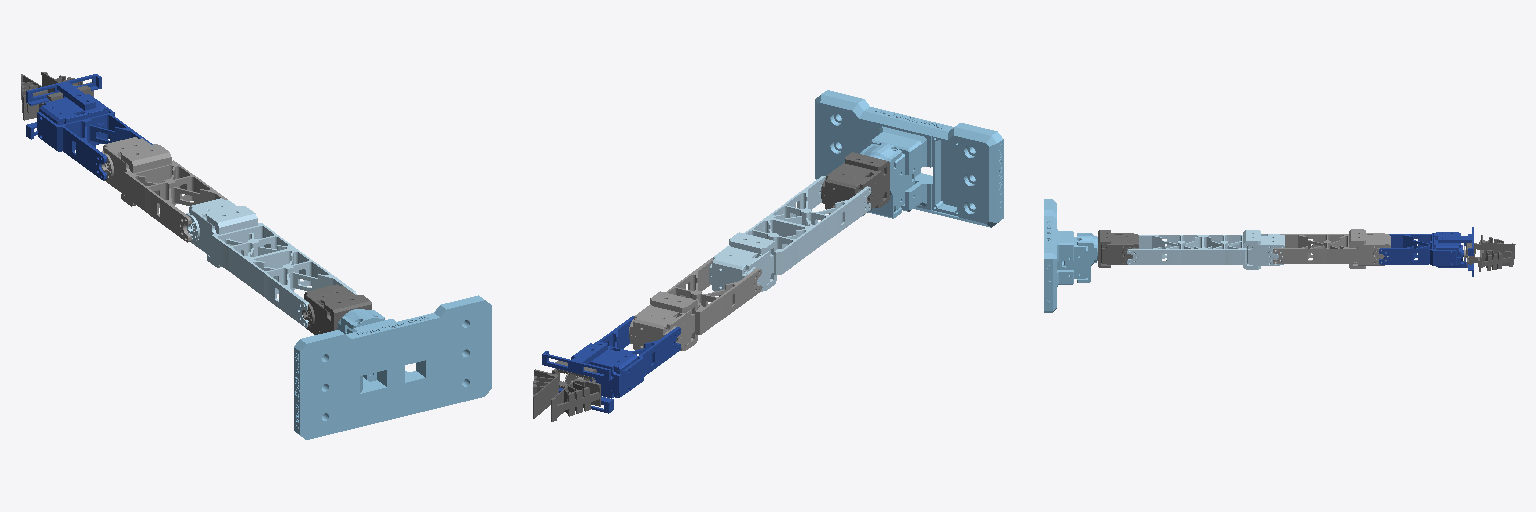
robot.urdf — C:\urdf_v3\my_manipulator:
<?xml version="1.0" ?>
<!-- Generated using onshape-to-robot -->
<!-- Onshape document_id: 29d2c07e16431e1b6bc67f98 / workspace_id: 2efbcbf417c8f235b23c5bfa -->
<robot name="C:\urdf_v3\my_manipulator">
  <!-- Link follower_01 -->
  <link name="follower_01">
    <inertial>
      <origin xyz="0 0 0" rpy="0 0 0"/>
      <mass value="1e-09"/>
      <inertia ixx="1e-09" ixy="0" ixz="0" iyy="1e-09" iyz="0" izz="1e-09"/>
    </inertial>
  </link>
  <!-- Link follower_02 -->
  <link name="follower_02">
    <inertial>
      <origin xyz="0 0 0" rpy="0 0 0"/>
      <mass value="1e-09"/>
      <inertia ixx="1e-09" ixy="0" ixz="0" iyy="1e-09" iyz="0" izz="1e-09"/>
    </inertial>
  </link>
  <!-- Link follower_03 -->
  <link name="follower_03">
    <inertial>
      <origin xyz="0 0 0" rpy="0 0 0"/>
      <mass value="1e-09"/>
      <inertia ixx="1e-09" ixy="0" ixz="0" iyy="1e-09" iyz="0" izz="1e-09"/>
    </inertial>
  </link>
  <!-- Link follower_04 -->
  <link name="follower_04">
    <inertial>
      <origin xyz="0 0 0" rpy="0 0 0"/>
      <mass value="1e-09"/>
      <inertia ixx="1e-09" ixy="0" ixz="0" iyy="1e-09" iyz="0" izz="1e-09"/>
    </inertial>
  </link>
  <!-- Link follower_05 -->
  <link name="follower_05">
    <inertial>
      <origin xyz="0 0 0" rpy="0 0 0"/>
      <mass value="1e-09"/>
      <inertia ixx="1e-09" ixy="0" ixz="0" iyy="1e-09" iyz="0" izz="1e-09"/>
    </inertial>
  </link>
  <!-- Link follower_06 -->
  <link name="follower_06">
    <inertial>
      <origin xyz="0 0 0" rpy="0 0 0"/>
      <mass value="1e-09"/>
      <inertia ixx="1e-09" ixy="0" ixz="0" iyy="1e-09" iyz="0" izz="1e-09"/>
    </inertial>
  </link>
  <!-- Link follower_06_follower_06 -->
  <link name="follower_06_follower_06">
    <inertial>
      <origin xyz="-0.0215944 0.0111261 0.0123933" rpy="0 0 0"/>
      <mass value="0.00310232"/>
      <inertia ixx="7.8201e-08" ixy="0" ixz="-0" iyy="7.8201e-08" iyz="-0" izz="9.5009e-08"/>
    </inertial>
    <!-- Part follower_06 -->
    <visual>
      <origin xyz="0 0 0" rpy="-0 -0 -0"/>
      <geometry>
        <mesh filename="package://assets\follower_06.stl"/>
      </geometry>
      <material name="follower_06_material">
        <color rgba="0.647059 0.647059 0.647059 1"/>
      </material>
    </visual>
    <collision>
      <origin xyz="0 0 0" rpy="-0 -0 -0"/>
      <geometry>
        <mesh filename="package://assets\follower_06.stl"/>
      </geometry>
    </collision>
  </link>
  <!-- Joint from follower_06 to follower_06_follower_06 -->
  <joint name="follower_06_follower_06_fixed" type="fixed">
    <origin xyz="0.0215944 0.0111261 0.00703672" rpy="3.14159 0 0"/>
    <parent link="follower_06"/>
    <child link="follower_06_follower_06"/>
    <axis xyz="0 0 1"/>
    <limit effort="10" velocity="10"/>
  </joint>
  <!-- Joint from follower_05 to follower_06 -->
  <joint name="joint_55" type="revolute">
    <origin xyz="0.101701 0.00636871 -0.00852485" rpy="1.5708 1.26378 -1.50826"/>
    <parent link="follower_05"/>
    <child link="follower_06"/>
    <axis xyz="0 0 1"/>
    <limit effort="10" velocity="10" lower="-1.89519" upper="4.38799"/>
  </joint>
  <!-- Link follower_07 -->
  <link name="follower_07">
    <inertial>
      <origin xyz="0 0 0" rpy="0 0 0"/>
      <mass value="1e-09"/>
      <inertia ixx="1e-09" ixy="0" ixz="0" iyy="1e-09" iyz="0" izz="1e-09"/>
    </inertial>
  </link>
  <!-- Link follower_07_follower_07 -->
  <link name="follower_07_follower_07">
    <inertial>
      <origin xyz="-0.0264328 0.0135631 0.0346837" rpy="0 0 0"/>
      <mass value="0.0146282"/>
      <inertia ixx="4.21079e-06" ixy="-4.28884e-07" ixz="6.50577e-07" iyy="4.93697e-06" iyz="7.33644e-07" izz="1.99287e-06"/>
    </inertial>
    <!-- Part follower_07 -->
    <visual>
      <origin xyz="0 0 0" rpy="-0 -0 0"/>
      <geometry>
        <mesh filename="package://assets\follower_07.stl"/>
      </geometry>
      <material name="follower_07_material">
        <color rgba="0.498039 0.498039 0.498039 1"/>
      </material>
    </visual>
    <collision>
      <origin xyz="0 0 0" rpy="-0 -0 0"/>
      <geometry>
        <mesh filename="package://assets\follower_07.stl"/>
      </geometry>
    </collision>
  </link>
  <!-- Joint from follower_07 to follower_07_follower_07 -->
  <joint name="follower_07_follower_07_fixed" type="fixed">
    <origin xyz="0.0227885 0.0140367 0.00975937" rpy="1.5708 -1.55279 -0"/>
    <parent link="follower_07"/>
    <child link="follower_07_follower_07"/>
    <axis xyz="0 0 1"/>
    <limit effort="10" velocity="10"/>
  </joint>
  <!-- Joint from follower_05 to follower_07 -->
  <joint name="joint_66" type="prismatic">
    <origin xyz="0.106136 0.017143 -0.00580006" rpy="-3.14159 0 -1.5708"/>
    <parent link="follower_05"/>
    <child link="follower_07"/>
    <axis xyz="0 0 1"/>
    <limit effort="10" velocity="10" lower="0.00797479" upper="0.00797479"/>
  </joint>
  <!-- Link follower_07_2 -->
  <link name="follower_07_2">
    <inertial>
      <origin xyz="0 0 0" rpy="0 0 0"/>
      <mass value="1e-09"/>
      <inertia ixx="1e-09" ixy="0" ixz="0" iyy="1e-09" iyz="0" izz="1e-09"/>
    </inertial>
  </link>
  <!-- Link follower_07_2_follower_07_2 -->
  <link name="follower_07_2_follower_07_2">
    <inertial>
      <origin xyz="-0.0264328 0.0135631 0.0346837" rpy="0 0 0"/>
      <mass value="0.0146282"/>
      <inertia ixx="4.21079e-06" ixy="-4.28884e-07" ixz="6.50577e-07" iyy="4.93697e-06" iyz="7.33644e-07" izz="1.99287e-06"/>
    </inertial>
    <!-- Part follower_07_2 -->
    <visual>
      <origin xyz="0 0 0" rpy="-0 -0 0"/>
      <geometry>
        <mesh filename="package://assets\follower_07.stl"/>
      </geometry>
      <material name="follower_07_2_material">
        <color rgba="0.498039 0.498039 0.498039 1"/>
      </material>
    </visual>
    <collision>
      <origin xyz="0 0 0" rpy="-0 -0 0"/>
      <geometry>
        <mesh filename="package://assets\follower_07.stl"/>
      </geometry>
    </collision>
  </link>
  <!-- Joint from follower_07_2 to follower_07_2_follower_07_2 -->
  <joint name="follower_07_2_follower_07_2_fixed" type="fixed">
    <origin xyz="0.0227885 0.0190367 0.0142643" rpy="1.5708 -1.55279 -0"/>
    <parent link="follower_07_2"/>
    <child link="follower_07_2_follower_07_2"/>
    <axis xyz="0 0 1"/>
    <limit effort="10" velocity="10"/>
  </joint>
  <!-- Joint from follower_05 to follower_07_2 -->
  <joint name="joint_77" type="prismatic">
    <origin xyz="0.112436 -0.00345557 -0.0235766" rpy="-0 -0 1.5708"/>
    <parent link="follower_05"/>
    <child link="follower_07_2"/>
    <axis xyz="0 0 1"/>
    <limit effort="10" velocity="10" lower="0.0123018" upper="0.0123018"/>
  </joint>
  <!-- Link follower_05_follower_05 -->
  <link name="follower_05_follower_05">
    <inertial>
      <origin xyz="0.347705 -0.134465 0.00500109" rpy="0 0 0"/>
      <mass value="0.168492"/>
      <inertia ixx="9.04257e-05" ixy="1.6948e-06" ixz="-1.51139e-05" iyy="0.000120866" iyz="4.01449e-06" izz="5.73781e-05"/>
    </inertial>
    <!-- Part follower_05 -->
    <visual>
      <origin xyz="0 -0 0" rpy="0 -0 0"/>
      <geometry>
        <mesh filename="package://assets\follower_05.stl"/>
      </geometry>
      <material name="follower_05_material">
        <color rgba="0.231373 0.380392 0.705882 1"/>
      </material>
    </visual>
    <collision>
      <origin xyz="0 -0 0" rpy="0 -0 0"/>
      <geometry>
        <mesh filename="package://assets\follower_05.stl"/>
      </geometry>
    </collision>
  </link>
  <!-- Joint from follower_05 to follower_05_follower_05 -->
  <joint name="follower_05_follower_05_fixed" type="fixed">
    <origin xyz="-0.0217518 -0.129684 -0.353216" rpy="-3.14159 -1.29957 0"/>
    <parent link="follower_05"/>
    <child link="follower_05_follower_05"/>
    <axis xyz="0 0 1"/>
    <limit effort="10" velocity="10"/>
  </joint>
  <!-- Joint from follower_04 to follower_05 -->
  <joint name="joint_44" type="revolute">
    <origin xyz="-0.00442565 -0.129925 -0.00134985" rpy="0 -0 -1.66739"/>
    <parent link="follower_04"/>
    <child link="follower_05"/>
    <axis xyz="0 0 1"/>
    <limit effort="10" velocity="10" lower="-3.23818" upper="3.045"/>
  </joint>
  <!-- Link follower_04_follower_04 -->
  <link name="follower_04_follower_04">
    <inertial>
      <origin xyz="0.201847 0.0317882 -0.252294" rpy="0 0 0"/>
      <mass value="0.189497"/>
      <inertia ixx="0.00021472" ixy="5.85741e-06" ixz="3.38913e-07" iyy="4.30308e-05" iyz="1.40076e-06" izz="0.000201763"/>
    </inertial>
    <!-- Part follower_04 -->
    <visual>
      <origin xyz="0 0 0" rpy="-0 -0 -0"/>
      <geometry>
        <mesh filename="package://assets\follower_04.stl"/>
      </geometry>
      <material name="follower_04_material">
        <color rgba="0.647059 0.647059 0.647059 1"/>
      </material>
    </visual>
    <collision>
      <origin xyz="0 0 0" rpy="-0 -0 -0"/>
      <geometry>
        <mesh filename="package://assets\follower_04.stl"/>
      </geometry>
    </collision>
  </link>
  <!-- Joint from follower_04 to follower_04_follower_04 -->
  <joint name="follower_04_follower_04_fixed" type="fixed">
    <origin xyz="-0.198115 -0.0684023 -0.279782" rpy="3.14159 -0.0280358 -0"/>
    <parent link="follower_04"/>
    <child link="follower_04_follower_04"/>
    <axis xyz="0 0 1"/>
    <limit effort="10" velocity="10"/>
  </joint>
  <!-- Joint from follower_03 to follower_04 -->
  <joint name="joint_33" type="revolute">
    <origin xyz="0.147532 -0.103123 0.0017" rpy="-0 0 0.994799"/>
    <parent link="follower_03"/>
    <child link="follower_04"/>
    <axis xyz="0 0 1"/>
    <limit effort="10" velocity="10" lower="-3.71759" upper="2.5656"/>
  </joint>
  <!-- Link follower_03_follower_03 -->
  <link name="follower_03_follower_03">
    <inertial>
      <origin xyz="0.169054 -0.0937152 -0.253168" rpy="0 0 0"/>
      <mass value="0.220641"/>
      <inertia ixx="0.000208084" ixy="-0.000224093" ixz="-6.69894e-06" iyy="0.00037182" iyz="-5.08821e-06" izz="0.000508899"/>
    </inertial>
    <!-- Part follower_03 -->
    <visual>
      <origin xyz="-0 0 0" rpy="0 -0 -0"/>
      <geometry>
        <mesh filename="package://assets\follower_03.stl"/>
      </geometry>
      <material name="follower_03_material">
        <color rgba="0.768627 0.886275 0.952941 1"/>
      </material>
    </visual>
    <collision>
      <origin xyz="-0 0 0" rpy="0 -0 -0"/>
      <geometry>
        <mesh filename="package://assets\follower_03.stl"/>
      </geometry>
    </collision>
  </link>
  <!-- Joint from follower_03 to follower_03_follower_03 -->
  <joint name="follower_03_follower_03_fixed" type="fixed">
    <origin xyz="-0.0505831 -0.171525 -0.276732" rpy="-3.14159 -0.0280358 -0"/>
    <parent link="follower_03"/>
    <child link="follower_03_follower_03"/>
    <axis xyz="0 0 1"/>
    <limit effort="10" velocity="10"/>
  </joint>
  <!-- Joint from follower_02 to follower_03 -->
  <joint name="joint_22" type="revolute">
    <origin xyz="0.0209 -0 -0.042" rpy="1.5708 0.960749 1.5708"/>
    <parent link="follower_02"/>
    <child link="follower_03"/>
    <axis xyz="0 0 1"/>
    <limit effort="10" velocity="10" lower="-3.75164" upper="2.53155"/>
  </joint>
  <!-- Link follower_02_follower_02 -->
  <link name="follower_02_follower_02">
    <inertial>
      <origin xyz="0.0577867 -0.186861 -0.256502" rpy="0 0 0"/>
      <mass value="0.138541"/>
      <inertia ixx="4.43013e-05" ixy="9.894e-09" ixz="8.1506e-08" iyy="2.44443e-05" iyz="3.62842e-07" izz="4.20237e-05"/>
    </inertial>
    <!-- Part follower_02 -->
    <visual>
      <origin xyz="0 -0 0" rpy="-0 0 0"/>
      <geometry>
        <mesh filename="package://assets\follower_02.stl"/>
      </geometry>
      <material name="follower_02_material">
        <color rgba="0.498039 0.498039 0.498039 1"/>
      </material>
    </visual>
    <collision>
      <origin xyz="0 -0 0" rpy="-0 0 0"/>
      <geometry>
        <mesh filename="package://assets\follower_02.stl"/>
      </geometry>
    </collision>
  </link>
  <!-- Joint from follower_02 to follower_02_follower_02 -->
  <joint name="follower_02_follower_02_fixed" type="fixed">
    <origin xyz="-0.257582 -0.0505831 -0.213525" rpy="-1.5708 0 1.54276"/>
    <parent link="follower_02"/>
    <child link="follower_02_follower_02"/>
    <axis xyz="0 0 1"/>
    <limit effort="10" velocity="10"/>
  </joint>
  <!-- Joint from follower_01 to follower_02 -->
  <joint name="joint_11" type="revolute">
    <origin xyz="-0.223053 -0.0919755 -0.333534" rpy="1.5708 -0 -0"/>
    <parent link="follower_01"/>
    <child link="follower_02"/>
    <axis xyz="0 0 1"/>
    <limit effort="10" velocity="10" lower="-4.68435" upper="1.59883"/>
  </joint>
  <!-- Link follower_01_follower_01 -->
  <link name="follower_01_follower_01">
    <inertial>
      <origin xyz="0.0604654 -0.261713 -0.266477" rpy="0 0 0"/>
      <mass value="0.635503"/>
      <inertia ixx="0.000465365" ixy="1.20418e-05" ixz="3.17377e-06" iyy="0.00145591" iyz="-1.7111e-06" izz="0.00132666"/>
    </inertial>
    <!-- Part follower_01 -->
    <visual>
      <origin xyz="0 0 0" rpy="0 -0 -0"/>
      <geometry>
        <mesh filename="package://assets\follower_01.stl"/>
      </geometry>
      <material name="follower_01_material">
        <color rgba="0.615686 0.811765 0.929412 1"/>
      </material>
    </visual>
    <collision>
      <origin xyz="0 0 0" rpy="0 -0 -0"/>
      <geometry>
        <mesh filename="package://assets\follower_01.stl"/>
      </geometry>
    </collision>
  </link>
  <!-- Joint from follower_01 to follower_01_follower_01 -->
  <joint name="follower_01_follower_01_fixed" type="fixed">
    <origin xyz="-0.280837 0.12255 -0.0774706" rpy="0 -0 -0"/>
    <parent link="follower_01"/>
    <child link="follower_01_follower_01"/>
    <axis xyz="0 0 1"/>
    <limit effort="10" velocity="10"/>
  </joint>
</robot>

--- Render facts (derived) ---
The picture shows the robot from 3 angles, left to right: view 1: azimuth 30°, elevation 25°; view 2: azimuth 150°, elevation 25°; view 3: azimuth 270°, elevation 25°; orthographic projection.
Model C:\urdf_v3\my_manipulator with 16 links and 15 joints (5 revolute, 2 prismatic, 8 fixed), rooted at follower_01, posed joints at zero except 2 at the middle of their limits (joint_66 = 0.008, joint_77 = 0.0123).
Visible links, largest first — view 1: follower_01_follower_01, follower_03_follower_03, follower_04_follower_04, follower_05_follower_05, follower_02_follower_02, follower_07_2_follower_07_2; view 2: follower_01_follower_01, follower_03_follower_03, follower_04_follower_04, follower_05_follower_05, follower_02_follower_02, follower_07_2_follower_07_2, follower_07_follower_07; view 3: follower_03_follower_03, follower_01_follower_01, follower_04_follower_04, follower_05_follower_05, follower_02_follower_02, follower_07_follower_07.
Link boxes in pixels (left/top/right/bottom): follower_01_follower_01: left=294, top=295, right=491, bottom=439; follower_03_follower_03: left=186, top=198, right=356, bottom=327; follower_04_follower_04: left=101, top=137, right=227, bottom=242; follower_05_follower_05: left=26, top=74, right=152, bottom=180; follower_02_follower_02: left=302, top=284, right=371, bottom=334; follower_07_2_follower_07_2: left=21, top=74, right=47, bottom=120; follower_01_follower_01: left=815, top=90, right=1003, bottom=227; follower_03_follower_03: left=709, top=176, right=870, bottom=291; follower_04_follower_04: left=629, top=258, right=761, bottom=350; follower_05_follower_05: left=542, top=316, right=680, bottom=413; follower_02_follower_02: left=821, top=152, right=889, bottom=215; follower_07_2_follower_07_2: left=551, top=378, right=600, bottom=421; follower_07_follower_07: left=533, top=360, right=596, bottom=418; follower_03_follower_03: left=1127, top=230, right=1284, bottom=269; follower_01_follower_01: left=1044, top=199, right=1097, bottom=312; follower_04_follower_04: left=1273, top=229, right=1390, bottom=268; follower_05_follower_05: left=1379, top=227, right=1473, bottom=276; follower_02_follower_02: left=1098, top=230, right=1138, bottom=267; follower_07_follower_07: left=1466, top=243, right=1513, bottom=271.
Size in the robot's own frame: 0.171 by 0.5807 by 0.082 metres.
Meshes: 7 distinct files referenced, 8 mesh visuals loaded (7 binary STL).
